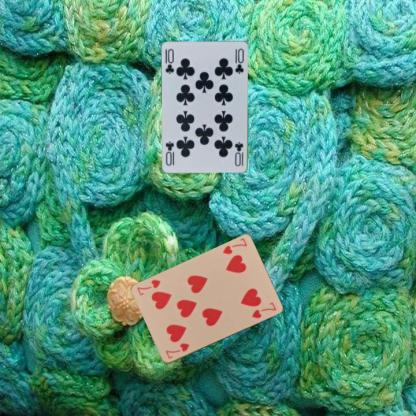10c: (163, 47, 175, 75), (233, 139, 244, 168)
7h: (163, 340, 191, 360), (220, 236, 249, 255)
